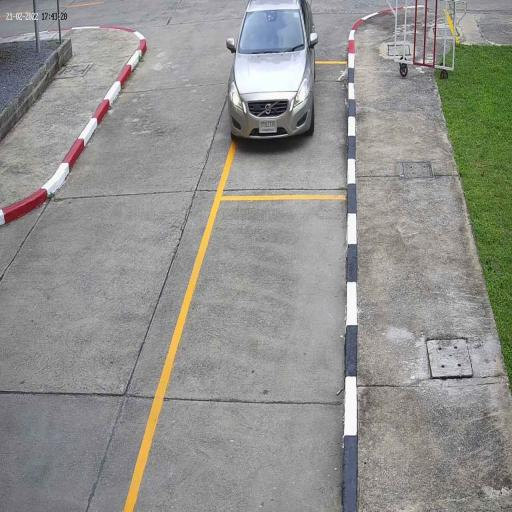car: (227, 0, 318, 146)
